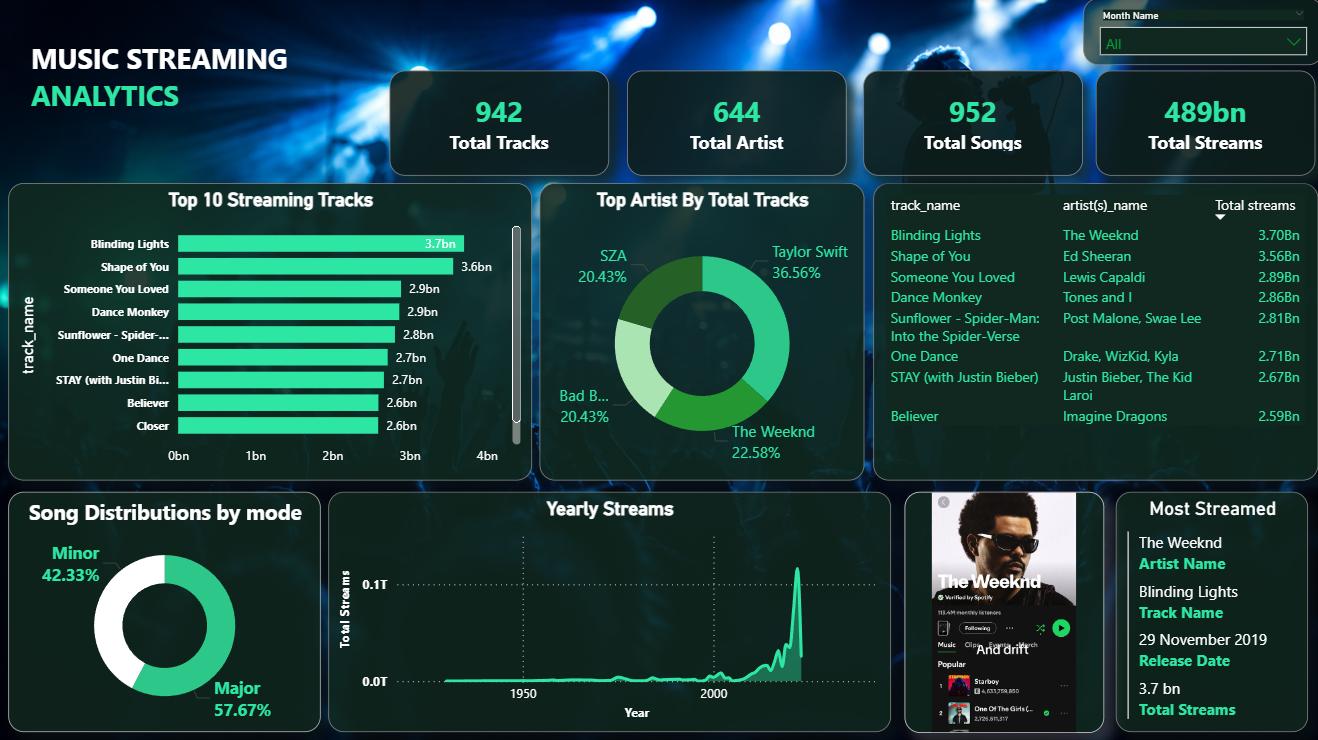

The dashboard page shown, as its layout file describes it:
{"tool":"powerbi","page":{"name":"Page 1","canvas":[1280,720],"ordinal":0},"visuals":[{"type":"cardVisual","fields":{"Data":["Spotify Most Streamed Songs.Total Tracks"]},"box":[378.8,70,212.3,101.3],"z":0},{"type":"donutChart","title":"Song Distributions by mode","fields":{"Category":["Spotify Most Streamed Songs.mode"],"Y":["Spotify Most Streamed Songs.Total Songs"]},"box":[10.9,476.5,301.6,231.6],"z":1000},{"type":"areaChart","title":"Yearly Streams","fields":{"Category":["Spotify Most Streamed Songs.Year"],"Y":["Spotify Most Streamed Songs.Total Streams"]},"box":[319.7,476.5,542.9,231.6],"z":2000},{"type":"barChart","title":"Top 10 Streaming Tracks","fields":{"Category":["Spotify Most Streamed Songs.track_name"],"Y":["Spotify Most Streamed Songs.Total Streams"]},"box":[10.9,178.6,505.5,287.1],"z":3000},{"type":"multiRowCard","title":"Most Streamed ","fields":{"Values":["Spotify Most Streamed Songs.artist(s)_name","Spotify Most Streamed Songs.track_name","Spotify Most Streamed Songs.Release Date","Spotify Most Streamed Songs.Total Streams"]},"box":[1079.8,476.5,185.8,231.6],"z":4000},{"type":"slicer","fields":{"Values":["Spotify Most Streamed Songs.Month Name"]},"box":[1048.4,0,231.6,65.1],"z":5000},{"type":"donutChart","title":"Top Artist By Total Tracks","fields":{"Category":["Spotify Most Streamed Songs.artist(s)_name"],"Y":["Spotify Most Streamed Songs.Total Tracks"]},"box":[523.6,178.6,313.7,287.1],"z":6000},{"type":"tableEx","fields":{"Values":["Spotify Most Streamed Songs.track_name","Spotify Most Streamed Songs.artist(s)_name","Sum(Spotify Most Streamed Songs.streams)"]},"box":[845.7,178.6,429.5,287.1],"z":7000},{"type":"textbox","box":[27.7,35,292,103.8],"z":8000},{"type":"cardVisual","fields":{"Data":["Spotify Most Streamed Songs.Total Artist"]},"box":[608,70,212.3,101.3],"z":9000},{"type":"cardVisual","fields":{"Data":["Spotify Most Streamed Songs.Total Songs"]},"box":[836.1,70,212.3,101.3],"z":10000},{"type":"cardVisual","fields":{"Data":["Spotify Most Streamed Songs.Total Streams"]},"box":[1060.5,70,212.3,101.3],"z":11000},{"type":"image","box":[875.9,476.5,193,232.8],"z":12000}]}

Visuals, with their boxes in screenshot pixels (x1, y1, x2, y2), scaled from the page's 1280x720 canvas onto the 1318x740 screenshot:
cardVisual - Spotify Most Streamed Songs.Total Tracks: locate(390, 72, 609, 176)
"Song Distributions by mode" donutChart: locate(11, 490, 322, 728)
"Yearly Streams" areaChart: locate(329, 490, 888, 728)
"Top 10 Streaming Tracks" barChart: locate(11, 184, 532, 479)
"Most Streamed " multiRowCard: locate(1112, 490, 1303, 728)
slicer - Spotify Most Streamed Songs.Month Name: locate(1080, 0, 1317, 67)
"Top Artist By Total Tracks" donutChart: locate(539, 184, 862, 479)
tableEx - Spotify Most Streamed Songs.track_name x Spotify Most Streamed Songs.artist(s)_name: locate(871, 184, 1313, 479)
textbox: locate(29, 36, 329, 143)
cardVisual - Spotify Most Streamed Songs.Total Artist: locate(626, 72, 845, 176)
cardVisual - Spotify Most Streamed Songs.Total Songs: locate(861, 72, 1080, 176)
cardVisual - Spotify Most Streamed Songs.Total Streams: locate(1092, 72, 1311, 176)
image: locate(902, 490, 1101, 729)
